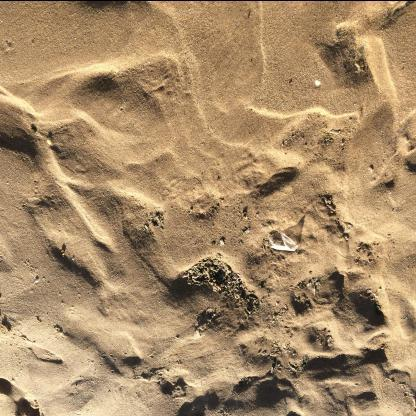plastik: (270, 231, 300, 252)
